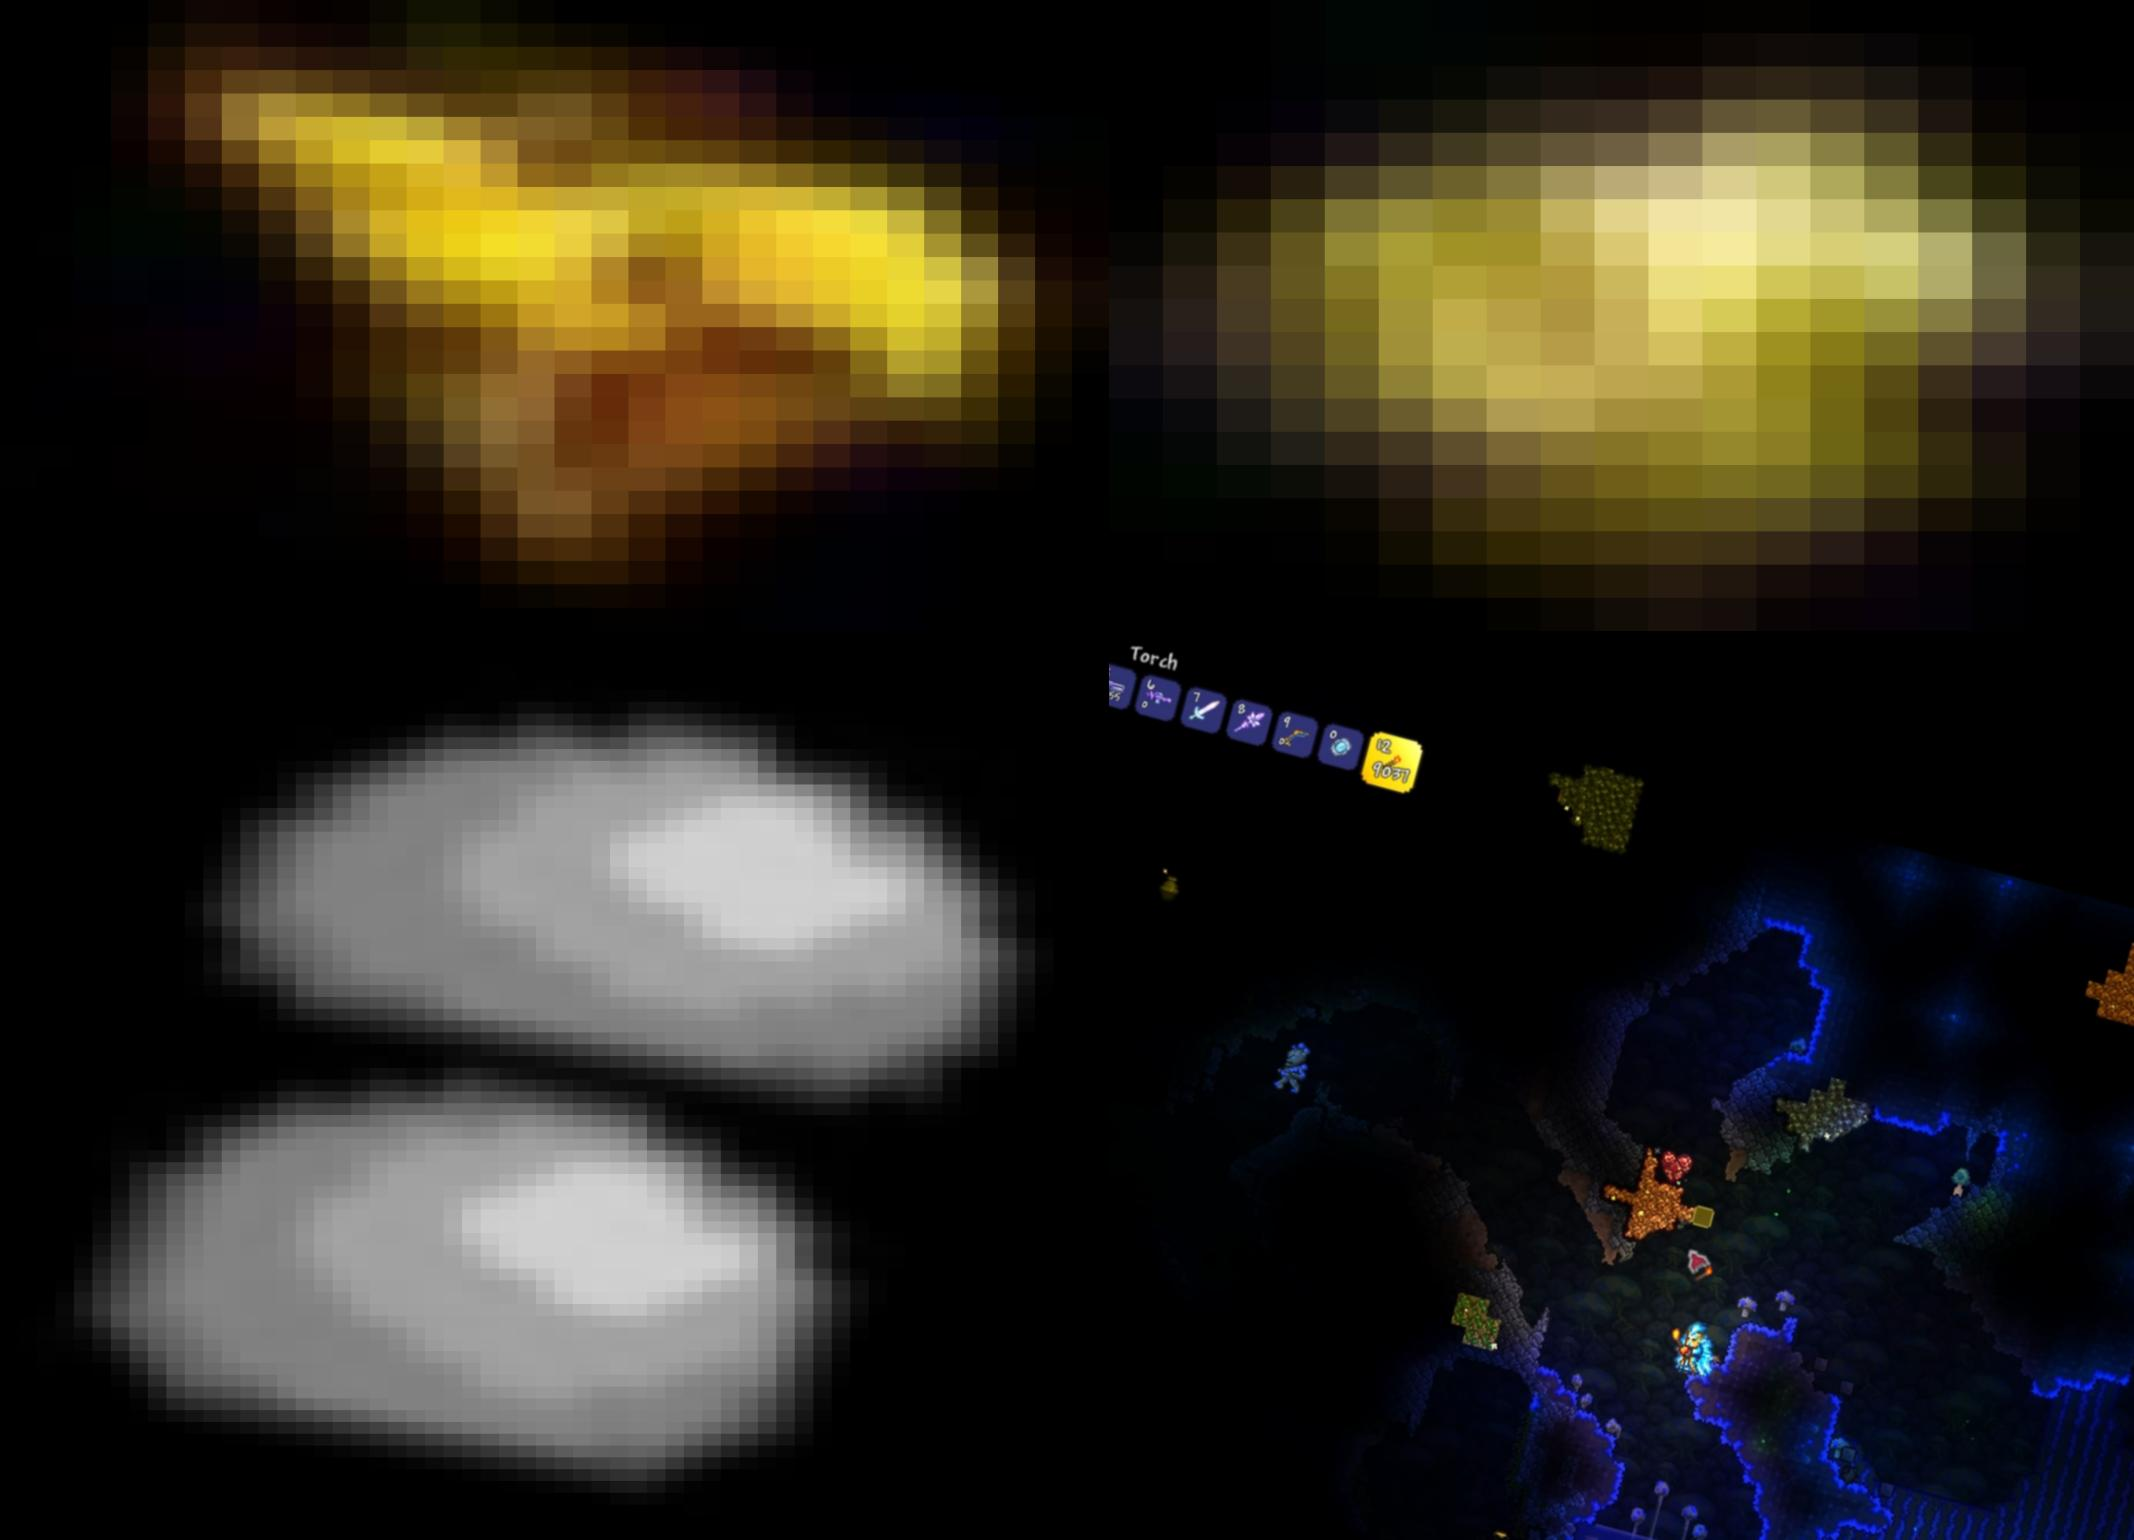helmet: (0, 0, 1108, 632)
mirror: (1324, 731, 1357, 766)
ore: (1108, 0, 2134, 632)
slime: (166, 643, 1108, 1139)
